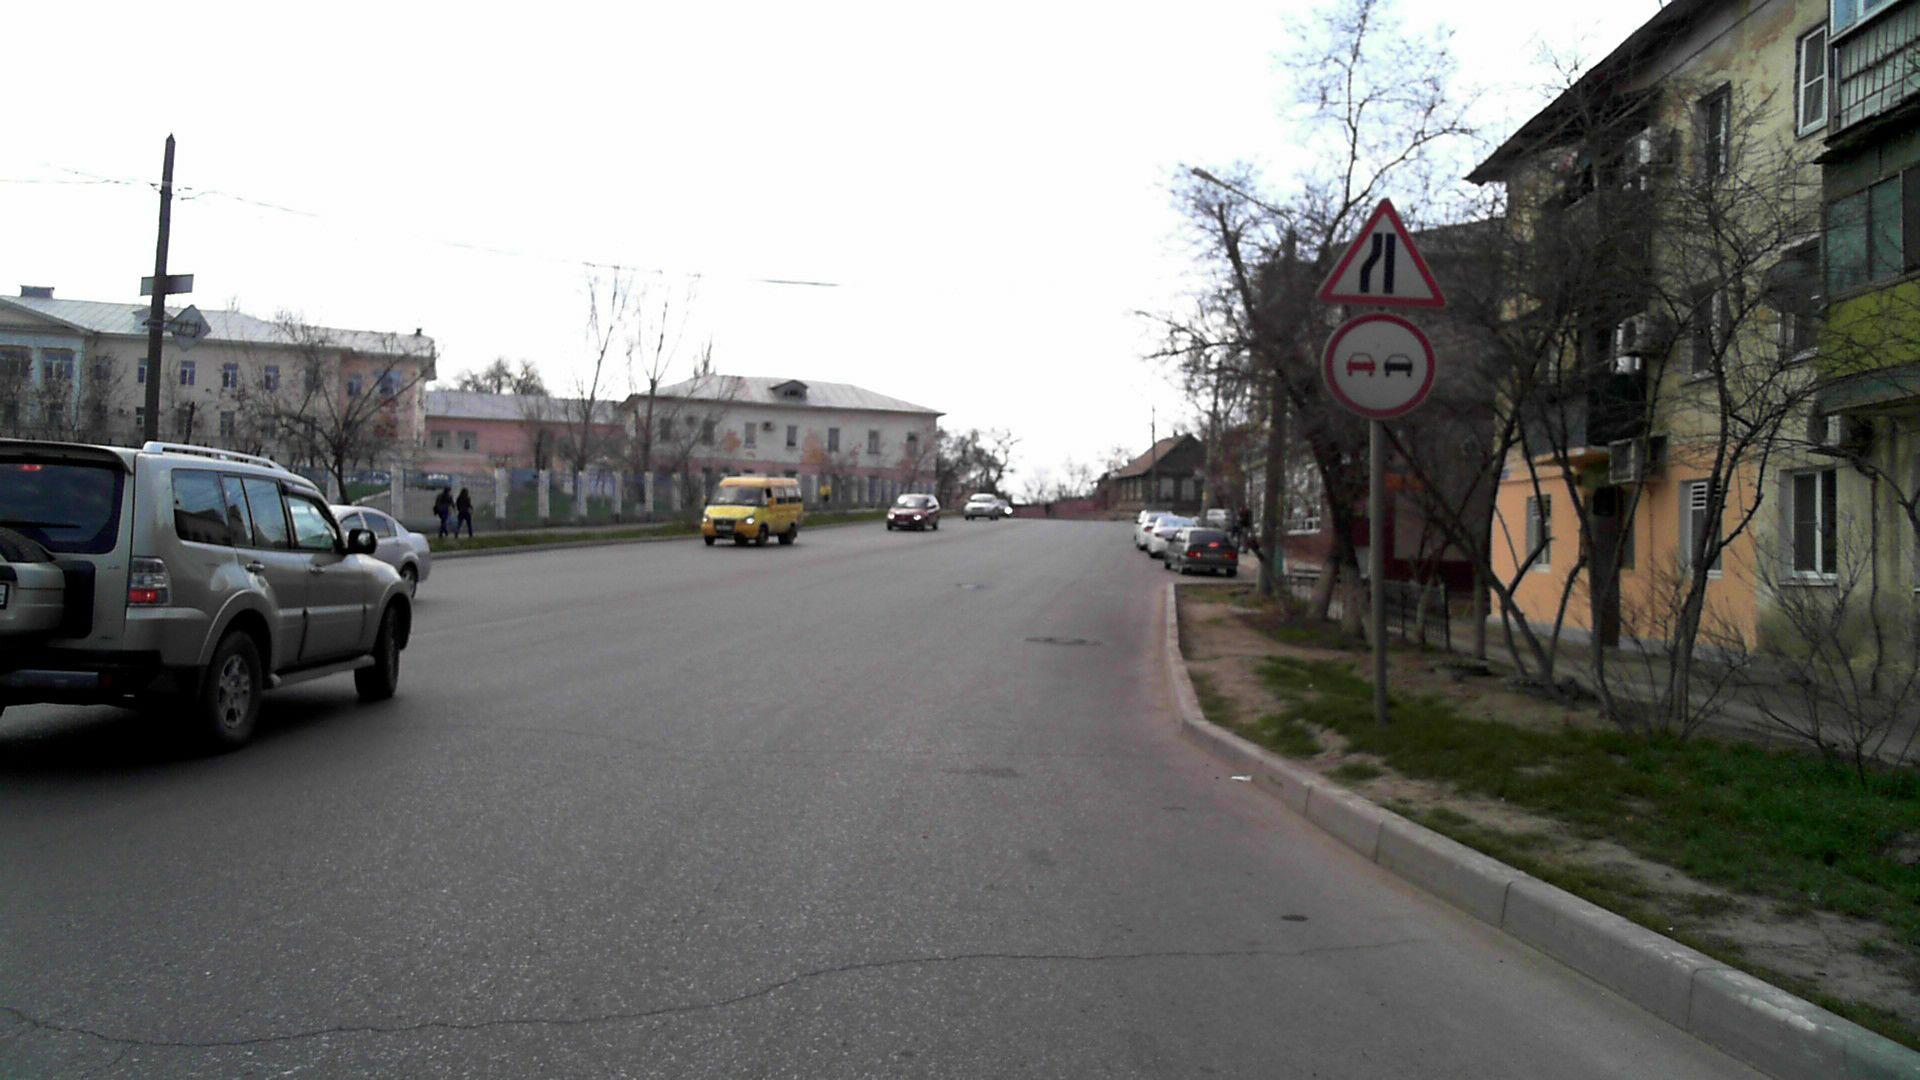1_20_3: (1317, 204, 1453, 315)
3_20: (1328, 314, 1436, 411)
